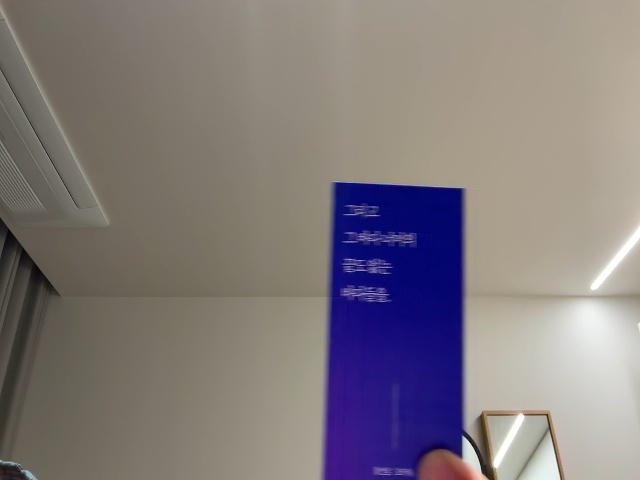card: (327, 184, 466, 480)
